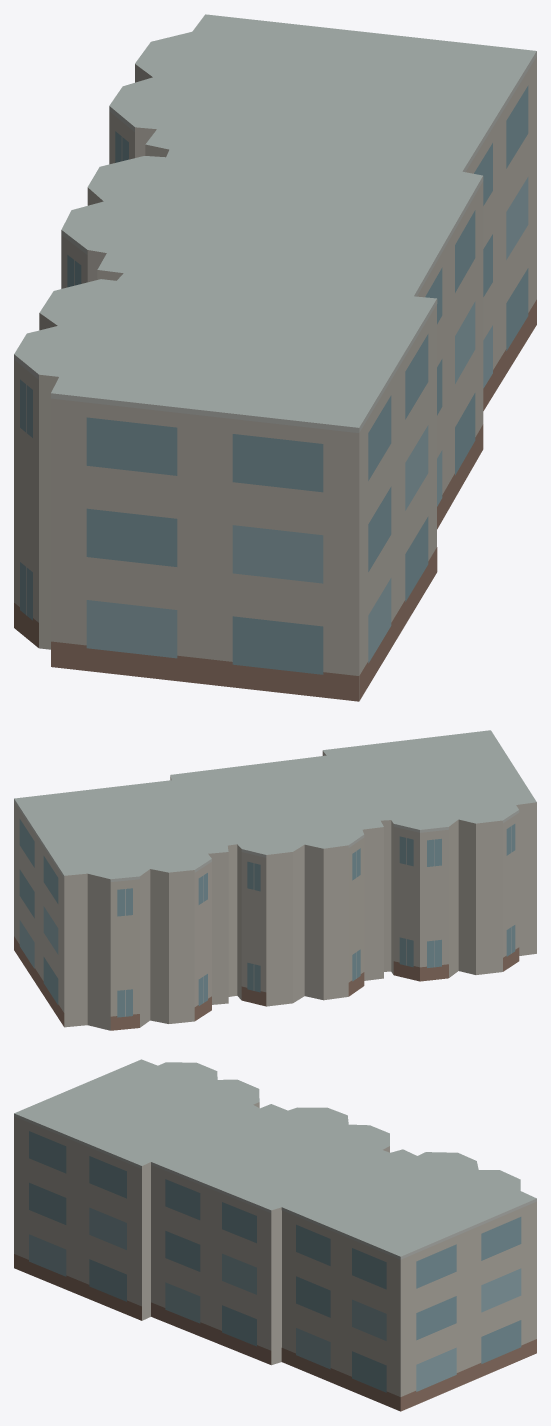
File: survey-upis-32598181.glb
The picture shows the model from 3 angles, top to bottom: view 1: azimuth 30°, elevation 25°; view 2: azimuth 150°, elevation 25°; view 3: azimuth 270°, elevation 25°; orthographic projection. The views are drawn at different scales.
Visible parts, largest first — view 1: survey-upis-32598181.tmp; view 2: survey-upis-32598181.tmp; view 3: survey-upis-32598181.tmp.
Part boxes in pixels (x1,y1,x2,y2): survey-upis-32598181.tmp: [14, 14, 536, 701]; survey-upis-32598181.tmp: [14, 730, 536, 1030]; survey-upis-32598181.tmp: [14, 1059, 536, 1411].
Bounding box in the file's own units: 34.54 × 12.63 × 38.66.
